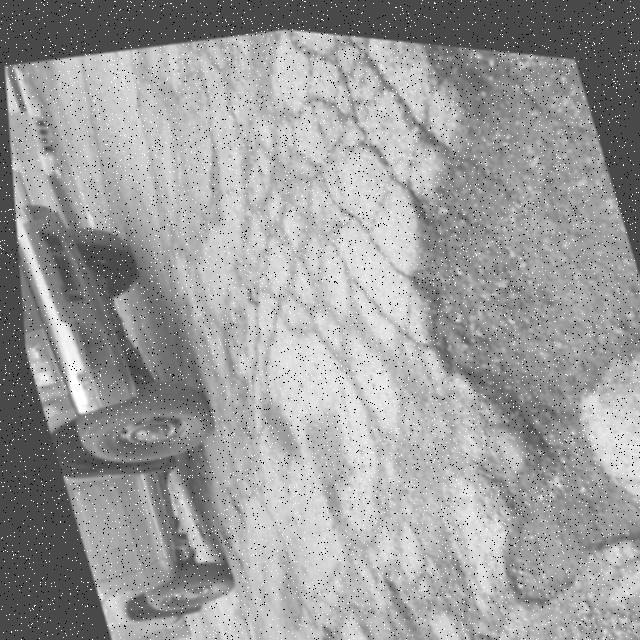pothole: (329, 27, 640, 624), (348, 544, 441, 640), (295, 603, 354, 640)
